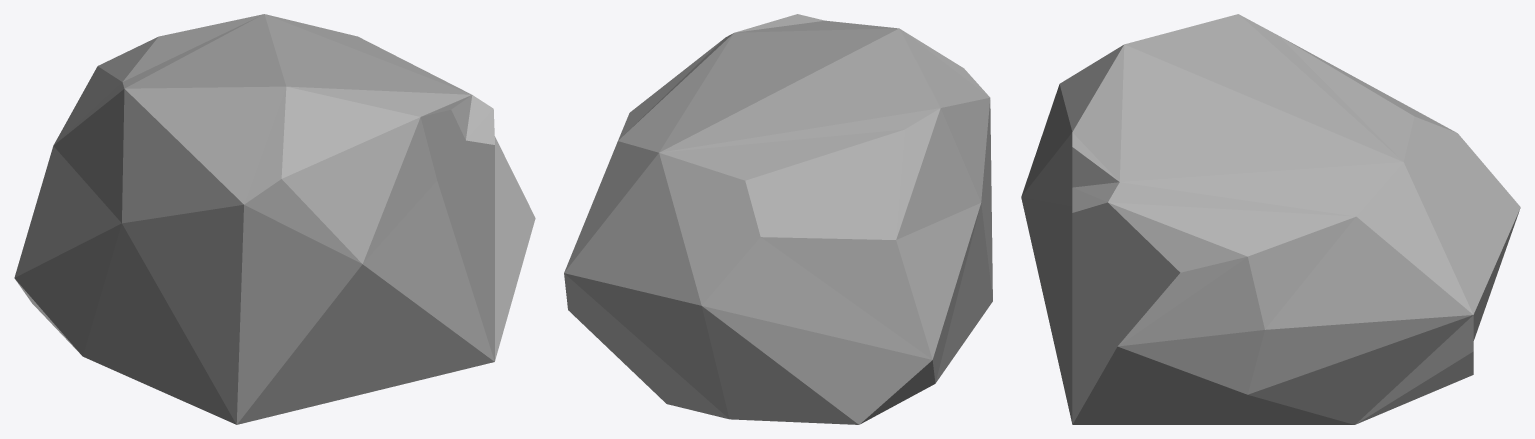
Rendered from Moyen_Calloux_02.fbx.
3 renders of one model, left to right at view 1: azimuth 30°, elevation 25°; view 2: azimuth 150°, elevation 25°; view 3: azimuth 270°, elevation 25°, orthographic. The views are drawn at different scales.
Visible parts, largest first — view 1: Moyen_Calloux_02; view 2: Moyen_Calloux_02; view 3: Moyen_Calloux_02.
Part boxes in pixels (box(x1,y1,x2,y2)): Moyen_Calloux_02: box(14, 14, 535, 424); Moyen_Calloux_02: box(564, 14, 992, 424); Moyen_Calloux_02: box(1021, 14, 1520, 424).
Size of the model in its own units: 240 by 172 by 265.
1 material, 1 textured.
